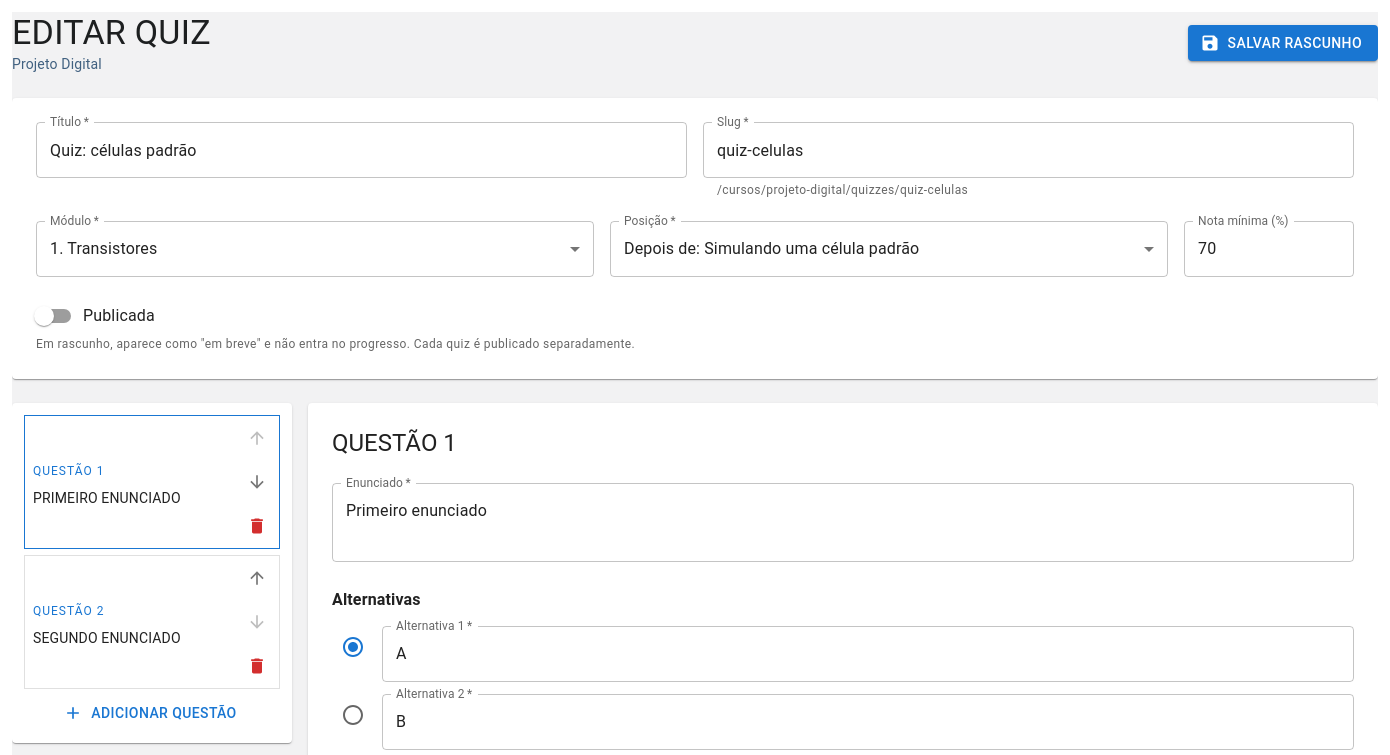
Test: QuizForm › mostra a mensagem da API quando o slug já existe
Expected: the text box showing "Primeiro enunciado" is shown, [346, 499, 1340, 545]
What coordinates should you click on to do the following:
click the button "Salvar rascunho"
I would click on:
 (1283, 43)
Its box is [1188, 25, 1378, 61].
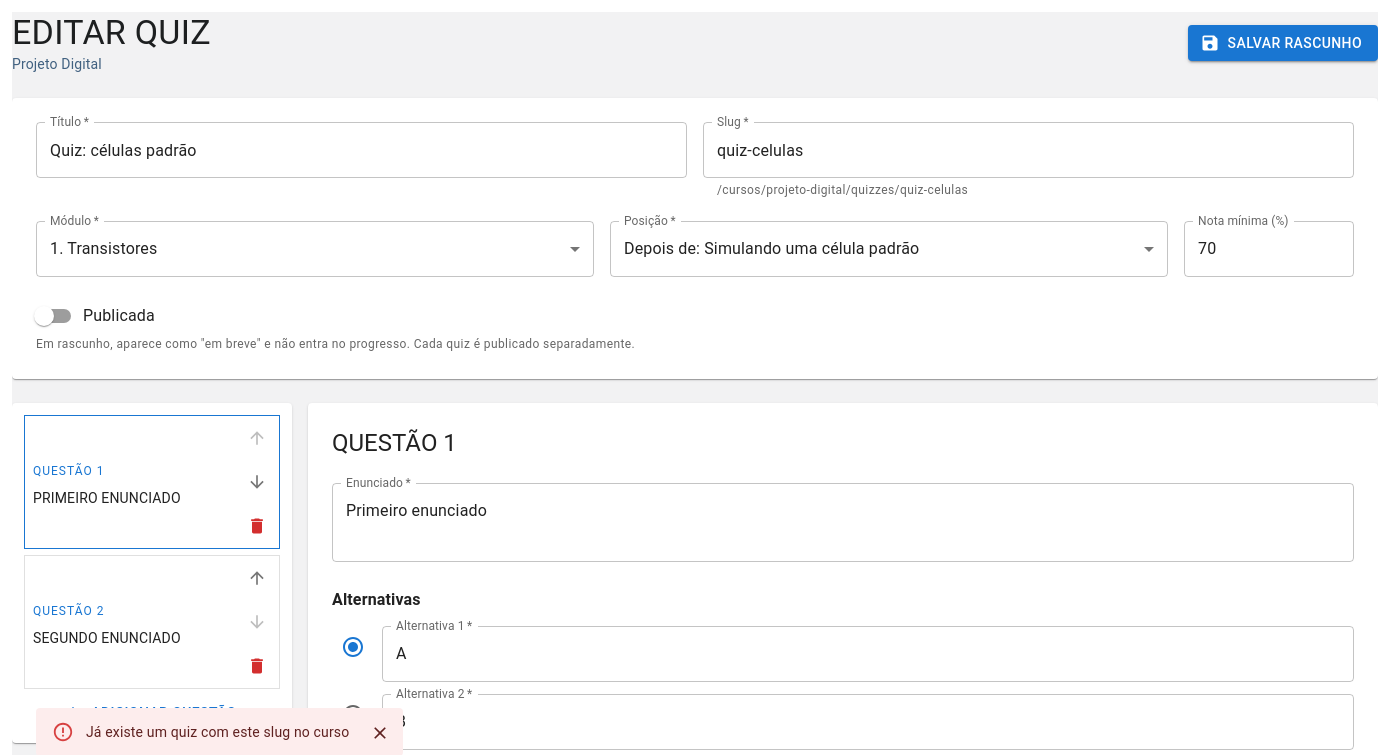
Now the text "Já existe um quiz com este slug no curso" is shown, box [86, 724, 349, 740]
